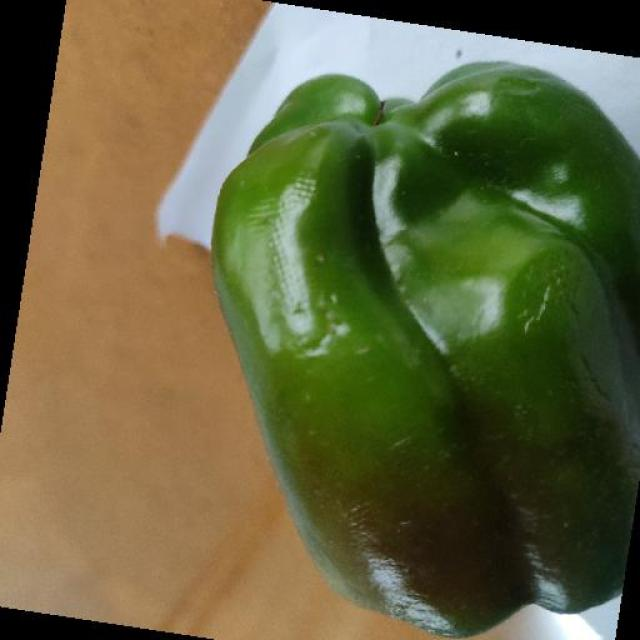Stale_Capsicum: (225, 90, 610, 610)
